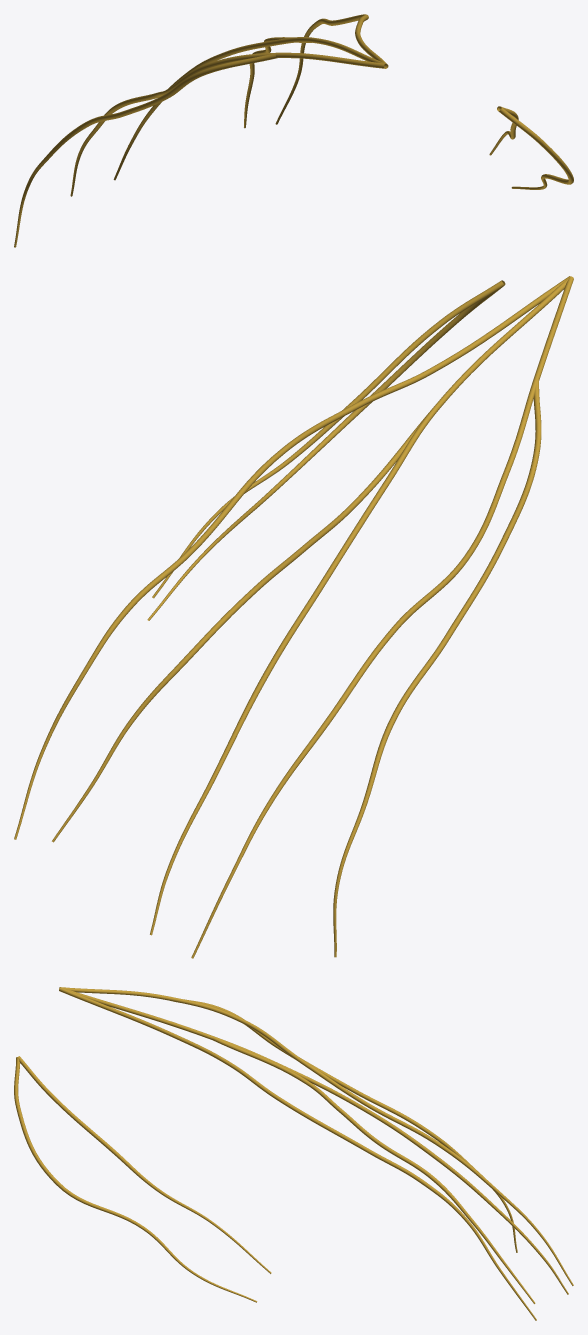
3 views of the same model, one above another, from view 1: azimuth 30°, elevation 25°; view 2: azimuth 150°, elevation 25°; view 3: azimuth 270°, elevation 25° (orthographic). The views are drawn at different scales.
Parts seen in each view (by area): view 1: 左侧桡神经指背神经; view 2: 左侧桡神经指背神经; view 3: 左侧桡神经指背神经.
Boxes of the visible parts, x1,y1,x2,y2 form: 左侧桡神经指背神经: [14, 14, 573, 247]; 左侧桡神经指背神经: [14, 276, 573, 958]; 左侧桡神经指背神经: [14, 987, 573, 1320].
Size of the model in its own units: 0.1063 by 0.114 by 0.1954.
